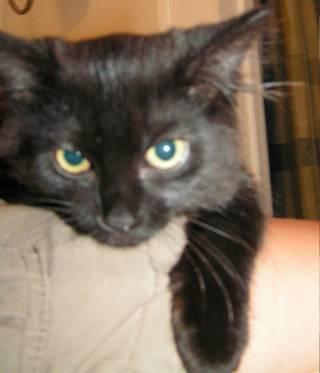cat: (0, 8, 268, 373)
